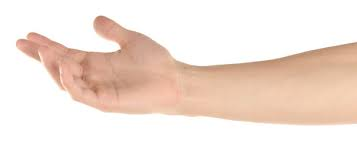hand: (6, 11, 179, 123)
